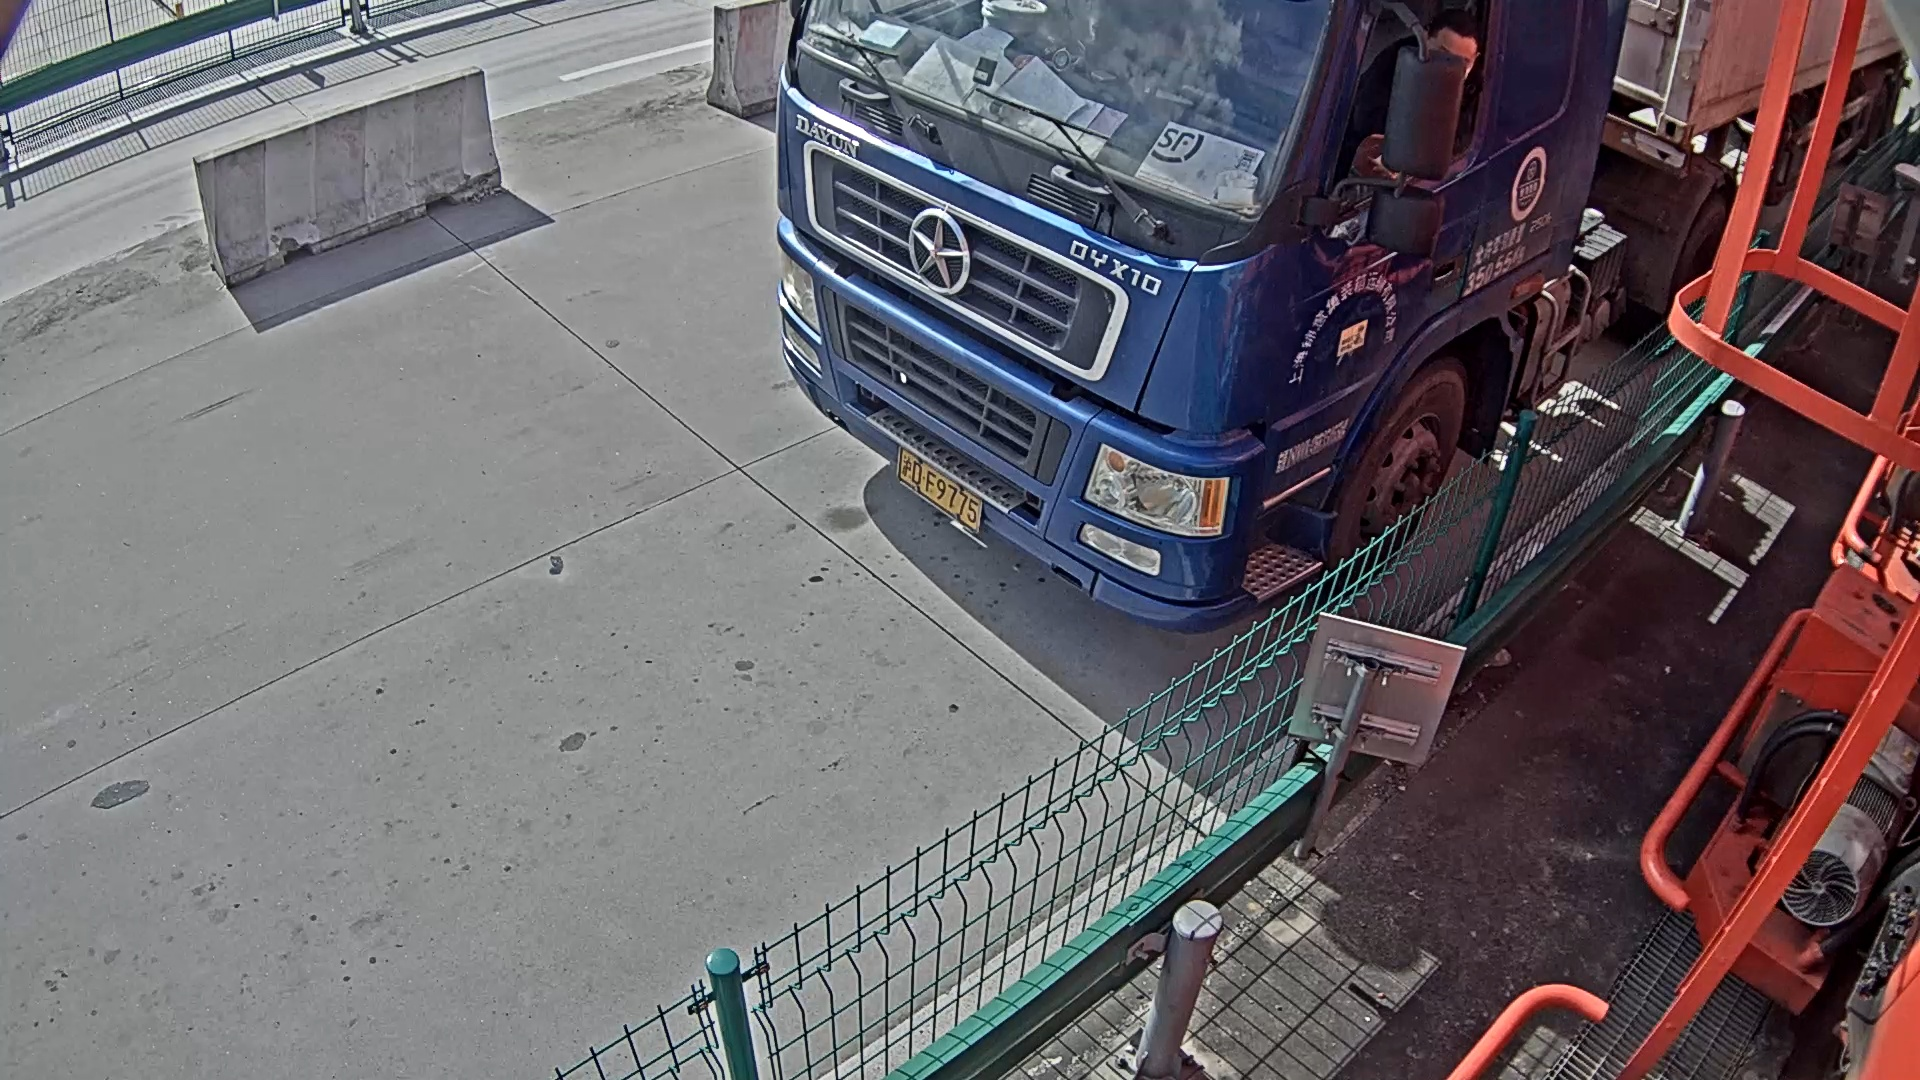head: (764, 1, 1612, 630)
plate: (894, 439, 980, 537)
